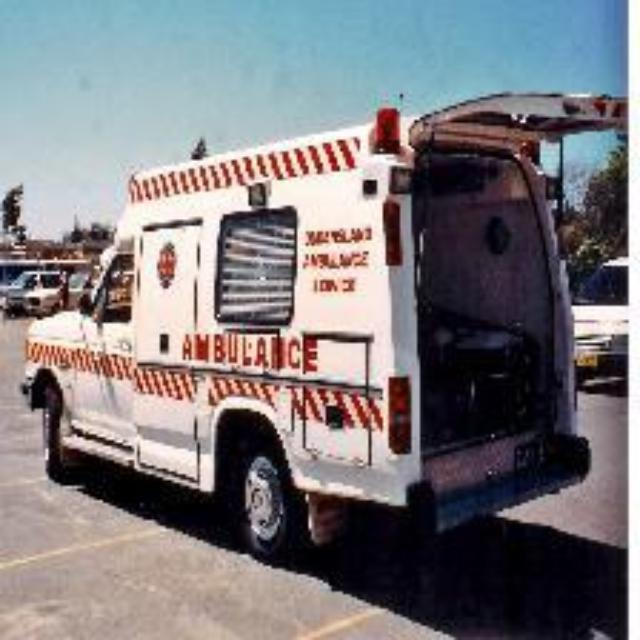emergency: (36, 123, 558, 525)
